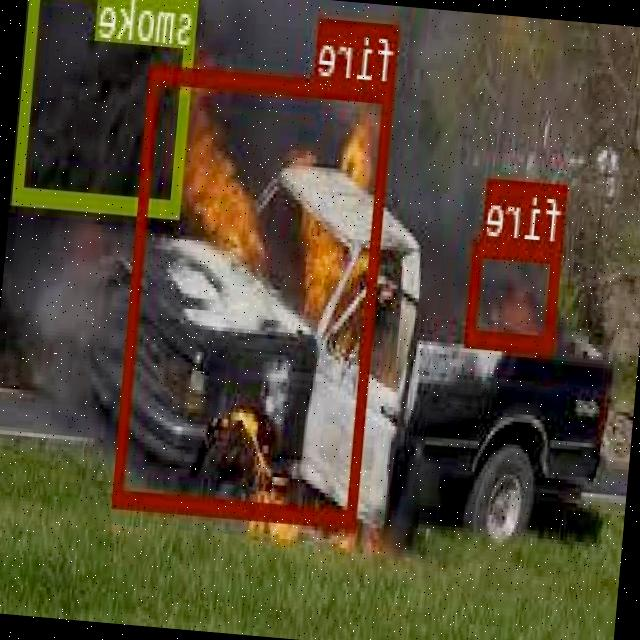fire: (115, 62, 395, 522), (467, 238, 562, 352)
smoke: (14, 0, 200, 216)
